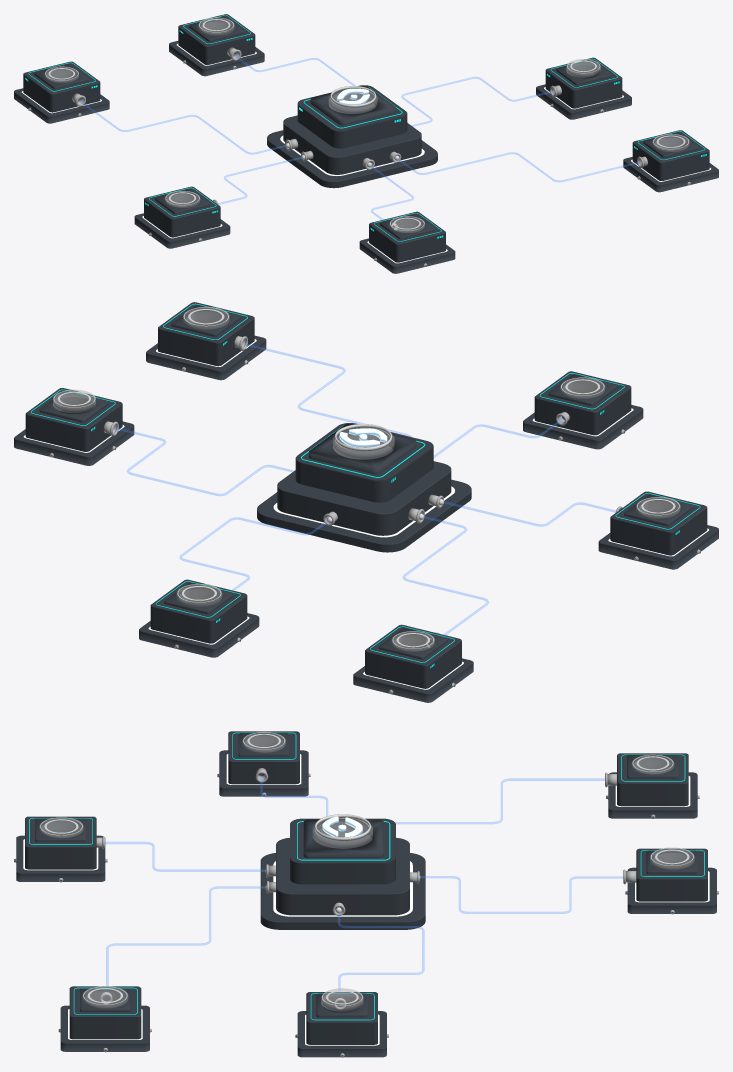
Rendered from Synehcroncity(copy)_newHub(39).glb.
The picture shows the model from 3 angles, top to bottom: view 1: azimuth 30°, elevation 25°; view 2: azimuth 150°, elevation 25°; view 3: azimuth 270°, elevation 25°; orthographic projection. The views are drawn at different scales.
Visible parts, largest first — view 1: Synechron_platform.001, Sub_platform_CTO_Office, Sub_platform_Ai, Sub_platform_Data, Sub_platform_Cloud_Dev_ops, Sub_platform_payments, Sub_platform_Digital, Cube.014, Glass.002, Glass.005, Glass.010, Glass.008 (+12 smaller); view 2: Synechron_platform.001, Sub_platform_CTO_Office, Sub_platform_Digital, Sub_platform_payments, Sub_platform_Ai, Sub_platform_Data, Sub_platform_Cloud_Dev_ops, Cube.014, Glass.002, Glass.005, Glass.010, Platformm_2.003 (+12 smaller); view 3: Synechron_platform.001, Sub_platform_Cloud_Dev_ops, Sub_platform_payments, Sub_platform_Data, Sub_platform_CTO_Office, Sub_platform_Ai, Sub_platform_Digital, Cube.014, Glass.008, Glass.002, Glass.010, Glass.005 (+13 smaller).
Part boxes in pixels (x1,y1,x2,y2): Synechron_platform.001: [267, 85, 437, 188]; Sub_platform_CTO_Office: [134, 186, 230, 248]; Sub_platform_Ai: [359, 211, 455, 273]; Sub_platform_Data: [623, 130, 718, 192]; Sub_platform_Cloud_Dev_ops: [536, 57, 631, 119]; Sub_platform_payments: [14, 61, 109, 123]; Sub_platform_Digital: [169, 14, 264, 76]; Cube.014: [310, 85, 395, 125]; Glass.002: [652, 134, 689, 151]; Glass.005: [198, 17, 234, 35]; Glass.010: [566, 59, 600, 77]; Glass.008: [329, 90, 377, 113]; Synechron_platform.001: [257, 423, 471, 552]; Sub_platform_CTO_Office: [598, 491, 718, 569]; Sub_platform_Digital: [139, 579, 259, 657]; Sub_platform_payments: [353, 624, 473, 702]; Sub_platform_Ai: [523, 371, 643, 449]; Sub_platform_Data: [146, 302, 266, 380]; Sub_platform_Cloud_Dev_ops: [14, 388, 134, 465]; Cube.014: [308, 424, 416, 474]; Glass.002: [183, 307, 229, 329]; Glass.005: [177, 584, 221, 606]; Glass.010: [53, 390, 95, 412]; Platformm_2.003: [379, 628, 447, 659]; Synechron_platform.001: [260, 818, 425, 929]; Sub_platform_Cloud_Dev_ops: [297, 992, 386, 1057]; Sub_platform_payments: [608, 753, 697, 818]; Sub_platform_Data: [60, 986, 149, 1051]; Sub_platform_CTO_Office: [219, 731, 308, 796]; Sub_platform_Ai: [16, 816, 105, 881]; Sub_platform_Digital: [627, 848, 716, 913]; Cube.014: [303, 819, 383, 858]; Glass.008: [313, 818, 372, 848]; Glass.002: [82, 986, 127, 1007]; Glass.010: [321, 988, 363, 1011]; Glass.005: [650, 848, 694, 869].
Size of the model in its own units: 34.81 by 4.01 by 34.56.
